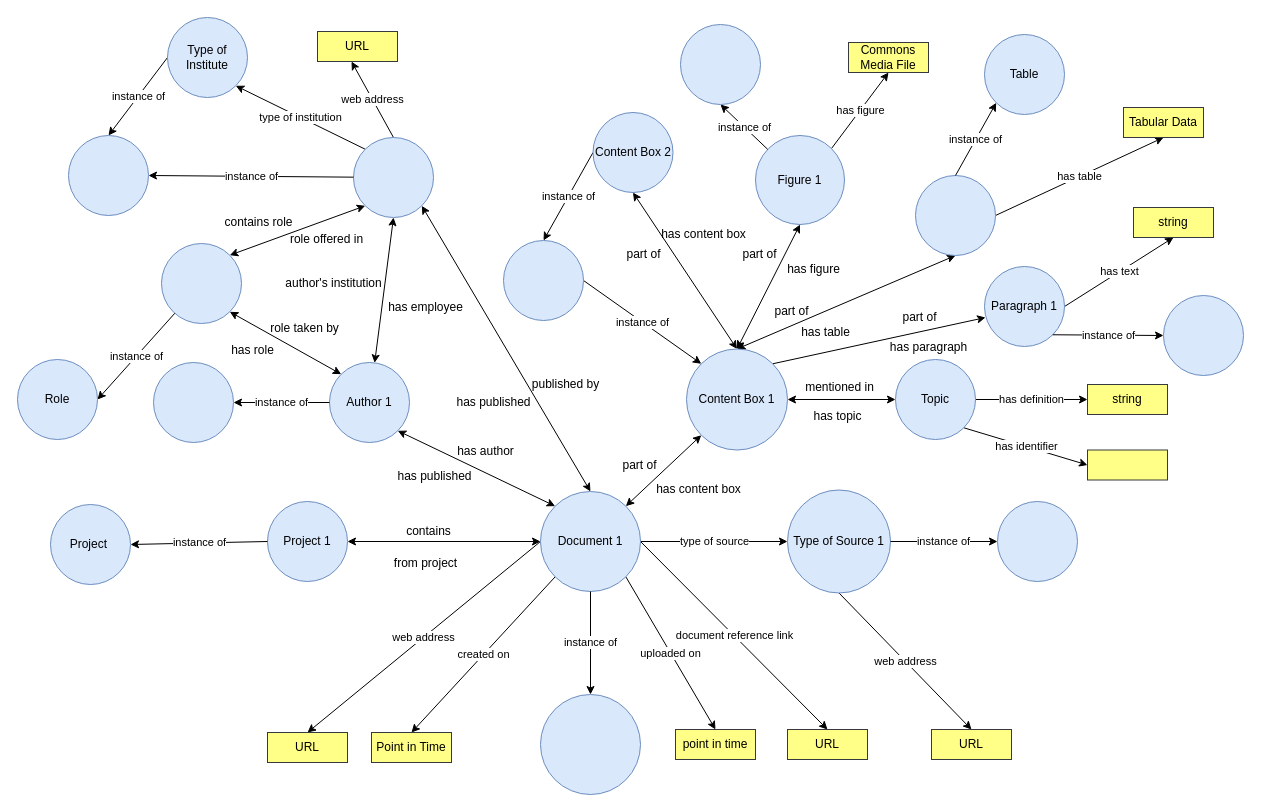
Some shapes in this 1261 by 812 pixel diagram are drawn without their labels. Each missing label, with the centre of its shape:
"Author" belongs at point 193,402.
"Content Box" belongs at point 543,280.
"Document" belongs at point 590,744.
"external identifier" belongs at point 1127,464.
"Figure" belongs at point 720,64.
"Institution" belongs at point 108,175.
"Institution 1" belongs at point 393,177.
"Paragraph" belongs at point 1203,335.
"Role 1" belongs at point 201,283.
"Source" belongs at point 1037,541.
"Table 1" belongs at point 955,215.
